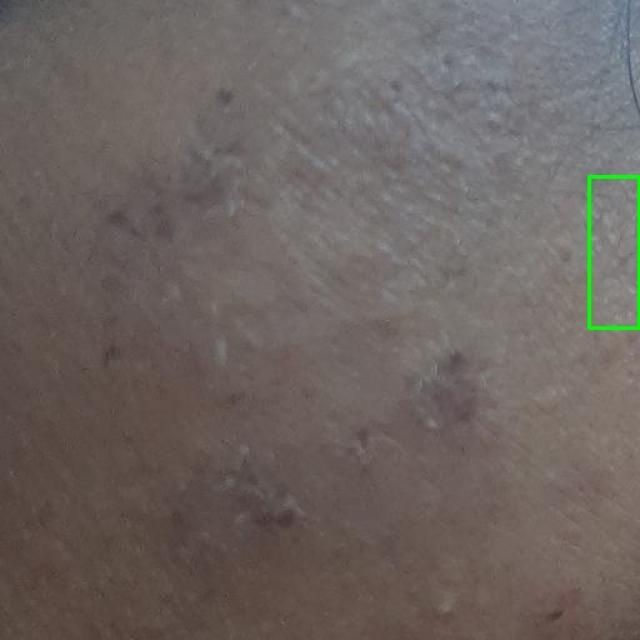Tinea Corporis: (589, 178, 639, 329)
